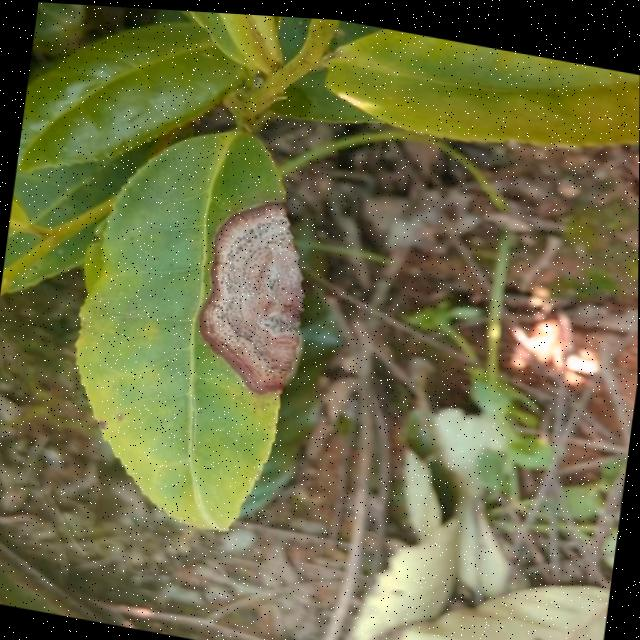Tea cloud leaf blight: (194, 188, 322, 400)
